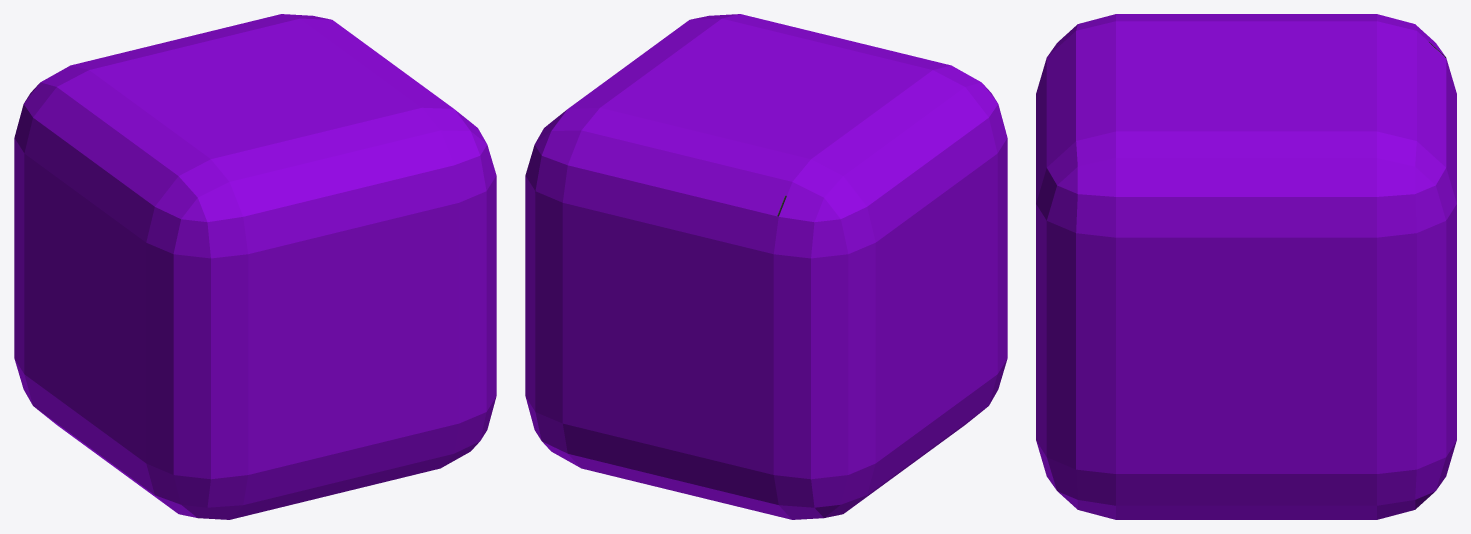
The model's file is bvCube.obj.
3 renders of one model, left to right at view 1: azimuth 30°, elevation 25°; view 2: azimuth 150°, elevation 25°; view 3: azimuth 270°, elevation 25°, orthographic. The views are drawn at different scales.
Visible parts, largest first — view 1: Cube; view 2: Cube; view 3: Cube.
Boxes of the visible parts, x1,y1,x2,y2 form: Cube: [14, 14, 496, 519]; Cube: [525, 14, 1007, 519]; Cube: [1036, 14, 1456, 519].
Bounding box in the file's own units: 2 × 2 × 2.
Materials: 1 (1 with a texture image).
